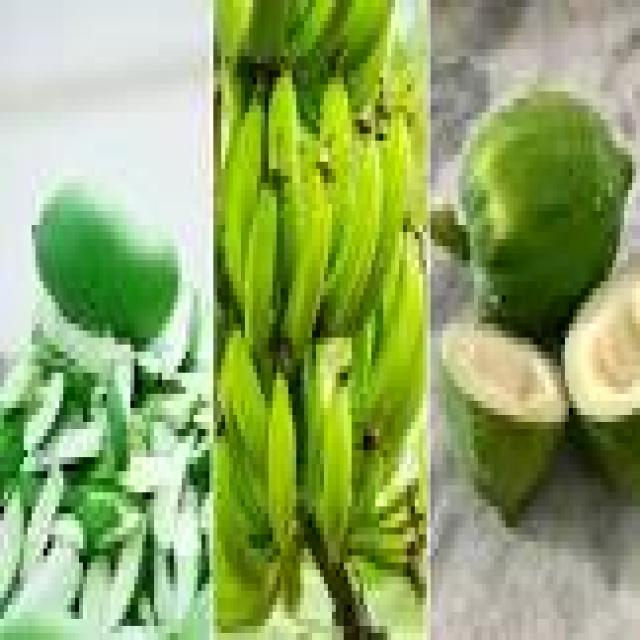banana: (364, 233, 426, 421), (324, 134, 383, 330), (360, 113, 410, 323), (285, 169, 331, 358), (222, 99, 264, 302), (214, 437, 272, 583), (301, 338, 351, 506), (269, 71, 304, 295), (380, 317, 426, 478), (218, 331, 268, 471), (317, 387, 351, 562), (320, 78, 351, 260), (214, 542, 276, 632), (245, 183, 276, 358), (320, 0, 395, 70), (269, 373, 296, 555), (344, 22, 391, 112), (340, 0, 395, 70), (301, 345, 323, 506), (269, 71, 300, 182), (320, 78, 351, 182), (289, 0, 339, 63), (245, 0, 292, 63), (214, 0, 252, 56), (281, 535, 304, 611)
